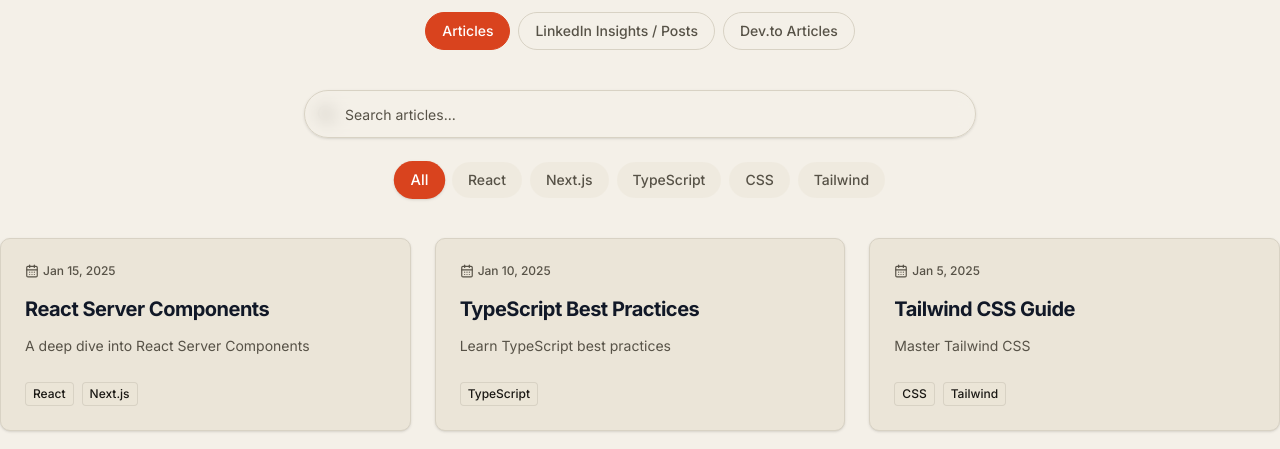
it: BlogList › should filter posts by tag
The image size is (1280, 449).
Click the button "TypeScript" at (669, 180), box x1=617 y1=162 x2=721 y2=198
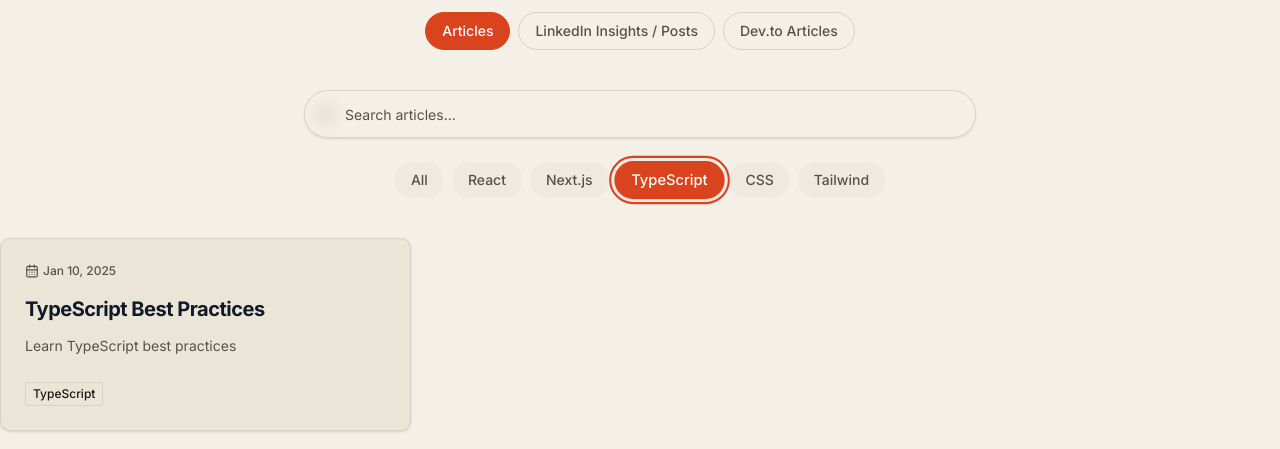
Expected: the heading "TypeScript Best Practices" is shown, x1=25 y1=297 x2=265 y2=321
Expected: the link "React Server Components" is gone
Expected: the link "Tailwind CSS Guide" is gone
